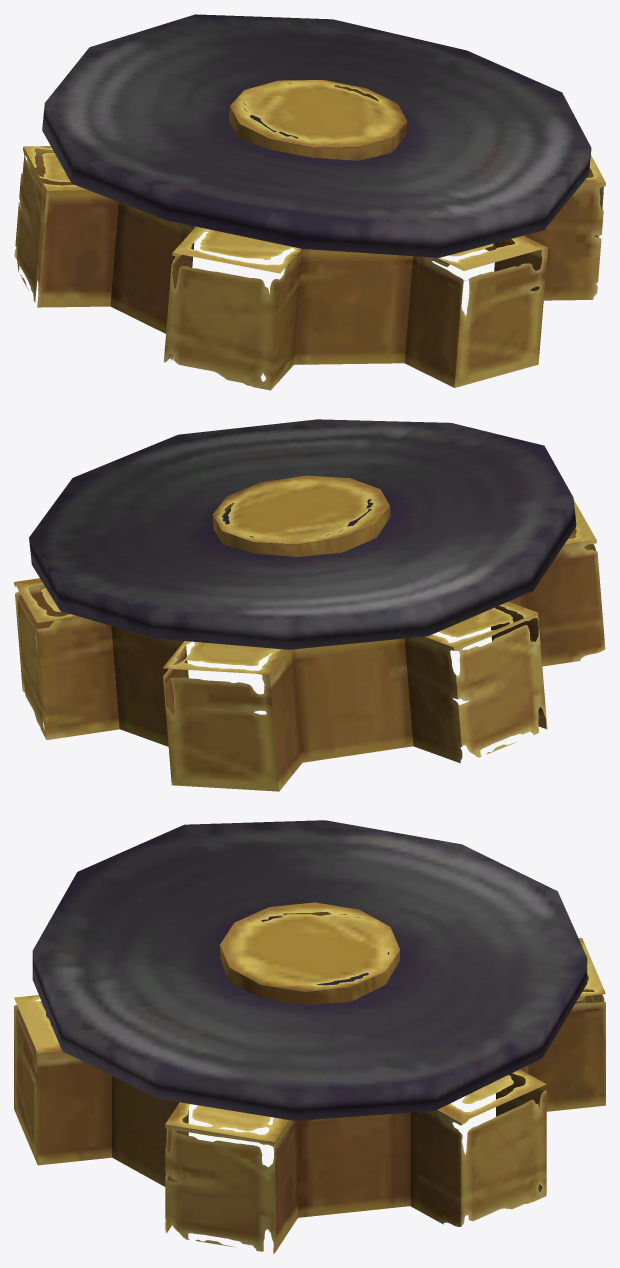
Rendered from disco_derecha.obj.
3 renders of one model, top to bottom at view 1: azimuth 30°, elevation 25°; view 2: azimuth 150°, elevation 25°; view 3: azimuth 270°, elevation 25°, orthographic.
Visible parts, largest first — view 1: turntable:disco_derecha; view 2: turntable:disco_derecha; view 3: turntable:disco_derecha.
Boxes of the visible parts, x1=… form: turntable:disco_derecha: x1=14, y1=14, x2=605, y2=390; turntable:disco_derecha: x1=14, y1=419, x2=605, y2=791; turntable:disco_derecha: x1=14, y1=820, x2=605, y2=1253.
Size of the model in its own units: 0.4557 by 0.1753 by 0.4522.
1 material, 1 textured.
